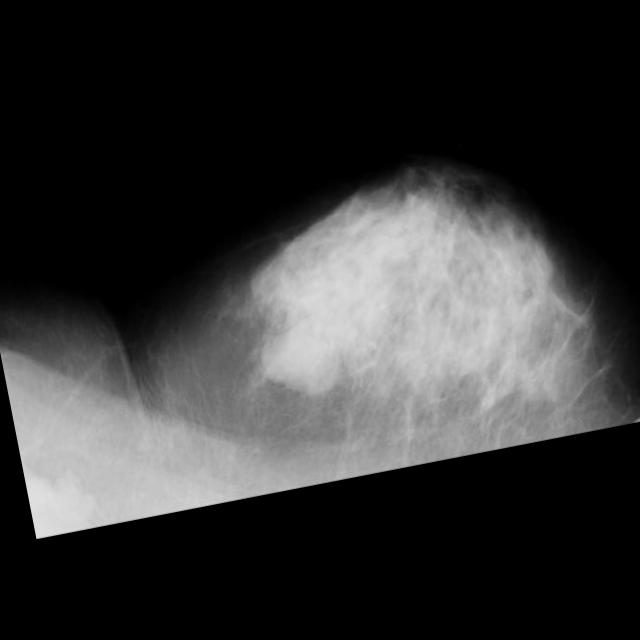CIRC: (253, 316, 329, 392)
